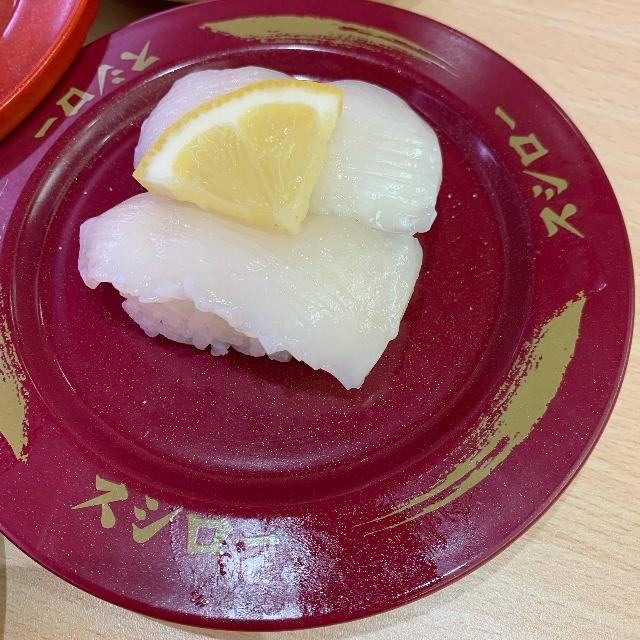janred: (31, 31, 608, 578)
